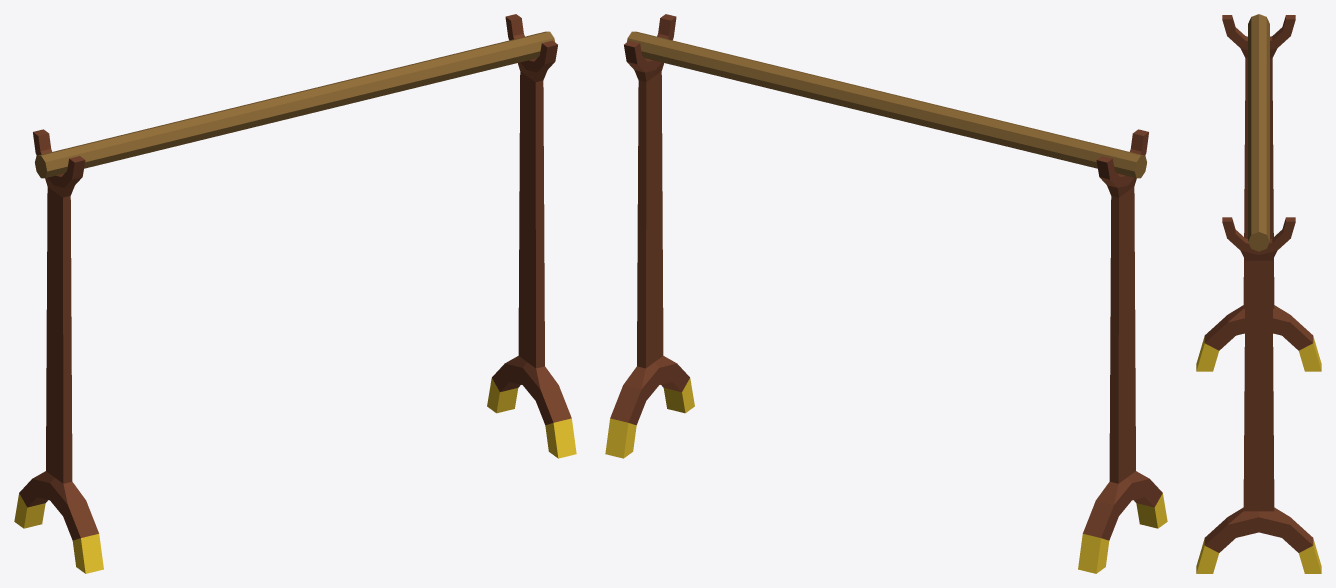
The model's file is Sis.fbx.
3 views of the same model, side by side, from view 1: azimuth 30°, elevation 25°; view 2: azimuth 150°, elevation 25°; view 3: azimuth 270°, elevation 25° (orthographic). The views are drawn at different scales.
Visible parts, largest first — view 1: Cube; view 2: Cube; view 3: Cube.
Boxes of the visible parts, x1=… form: Cube: x1=14, y1=14, x2=576, y2=573; Cube: x1=605, y1=14, x2=1167, y2=573; Cube: x1=1196, y1=14, x2=1321, y2=573.
Bounding box in the file's own units: 280 × 210 × 68.
